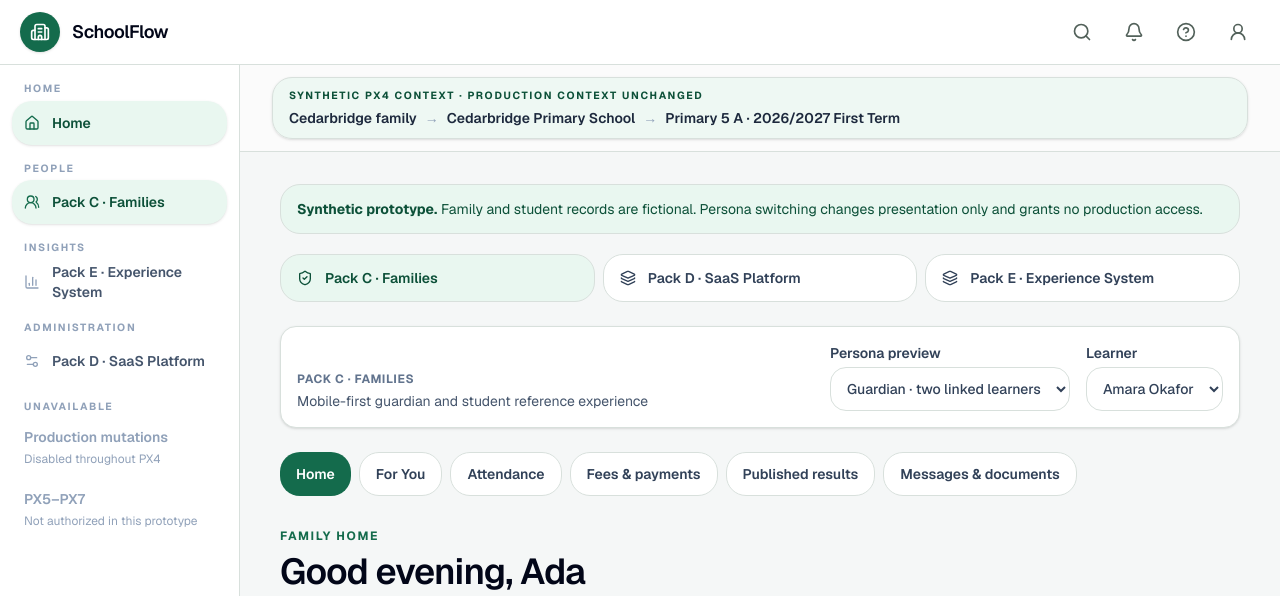
Test case: PX4 Prototype Packs C–E › keeps student access self-only and guardian controls unavailable
Step 1. Select "Student · self only" in the dropdown named "Family persona preview" → (950,389), box x1=830 y1=367 x2=1070 y2=411
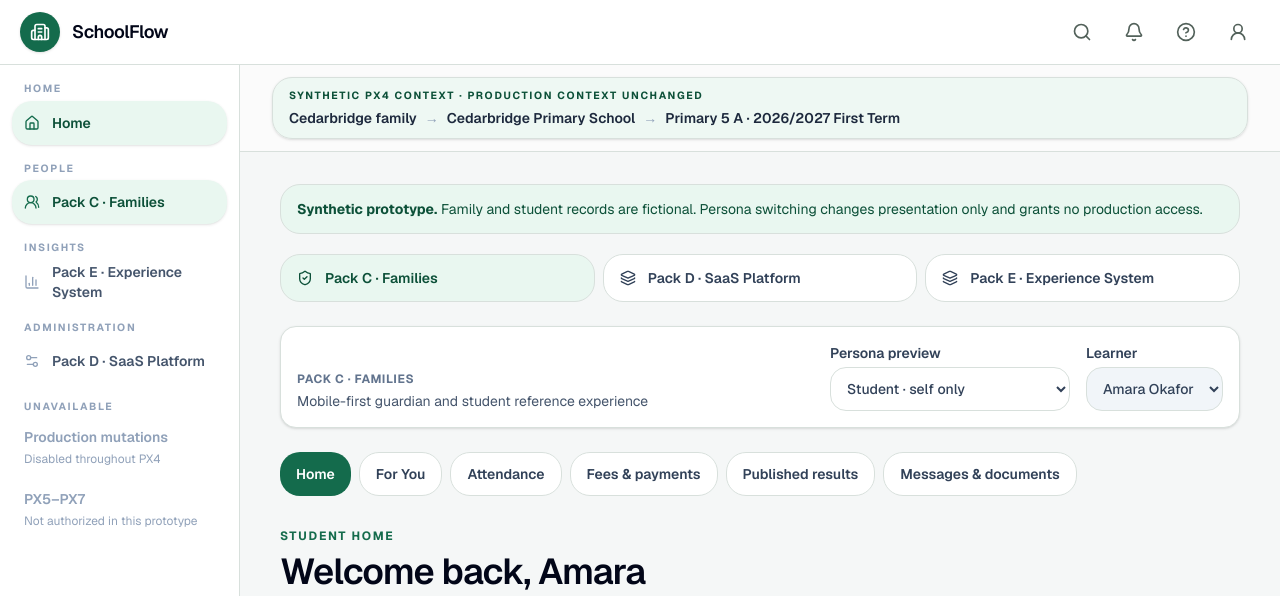
Expected: the dropdown named "Linked learner" is disabled, x1=1086 y1=367 x2=1223 y2=411
Step 2. Click the button "Published results" → (800,474), box x1=726 y1=452 x2=875 y2=496
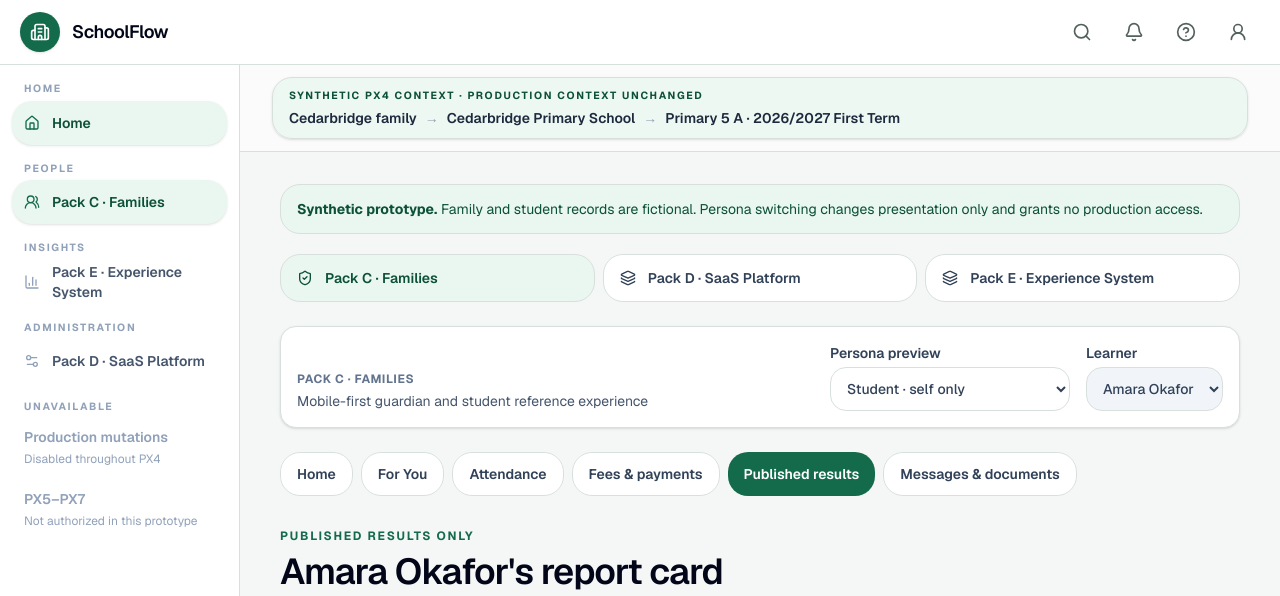
Step 3. Click the button "Fees & payments" → (646,474), box x1=572 y1=452 x2=720 y2=496
(page scrolled)
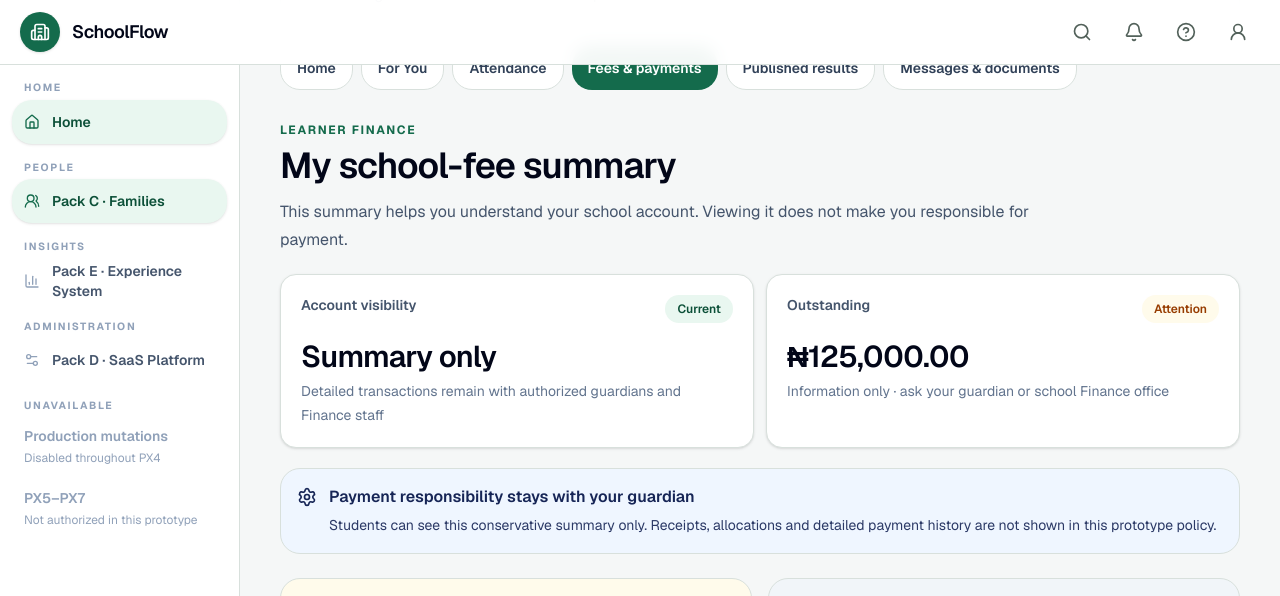
Now the text "Viewing it does not make you responsible" is shown, box x1=280 y1=201 x2=1029 y2=250
Now the heading "Payment responsibility stays with your guardian" is shown, box x1=329 y1=486 x2=695 y2=507
